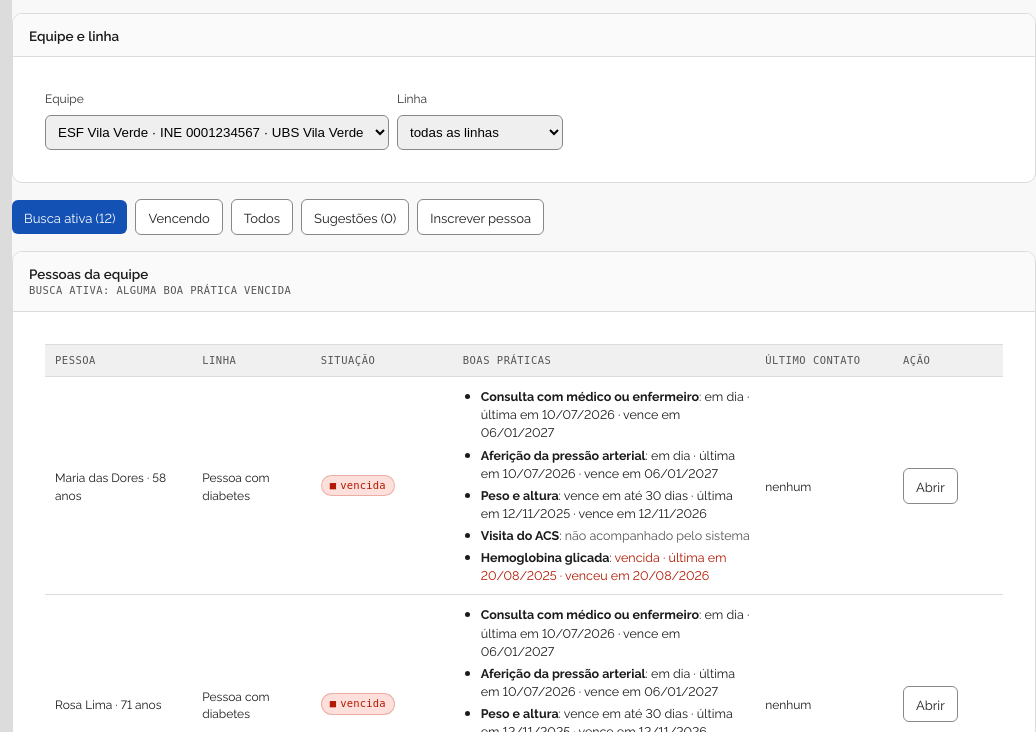
Test: EnrollmentDetail › fechar/trocar o detalhe durante o envio: a resposta tardia de A não fecha B nem relê A
Step 1. Click the button with aria-label "Abrir Maria das Dores" → (930, 486), box [903,468,958,504]
(page scrolled)
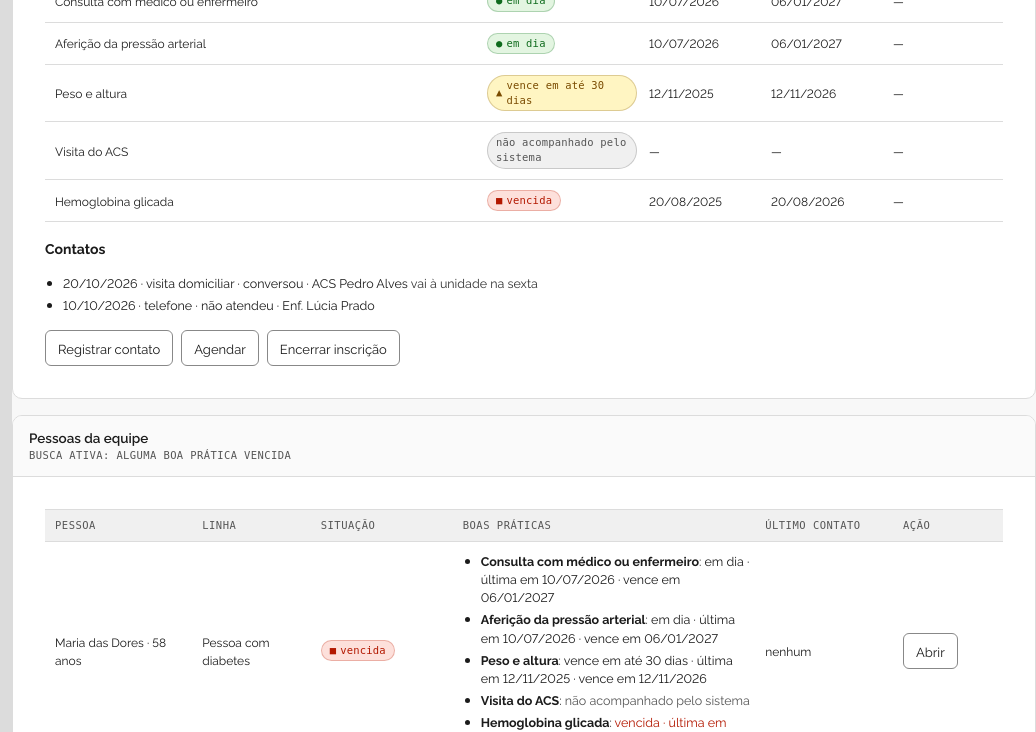
Step 2. Click the button "Registrar contato" → (109, 348), box [45,330,173,366]
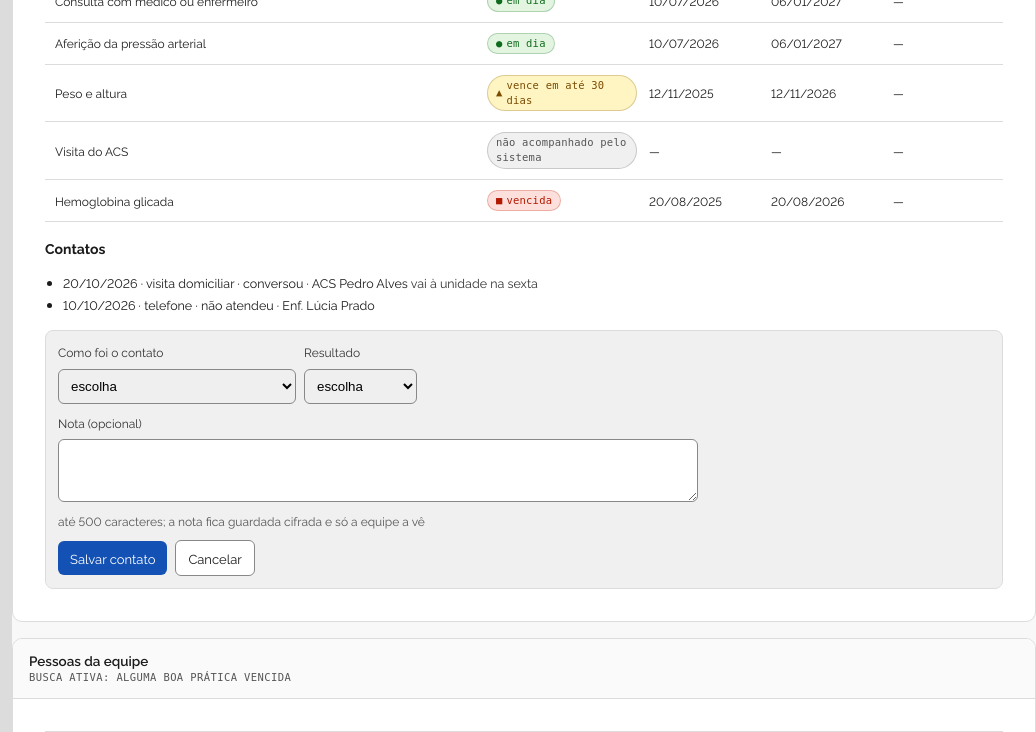
Step 3. Select "telefone" in the dropdown labelled "Como foi o contato" → (177, 386), box [58,369,296,404]
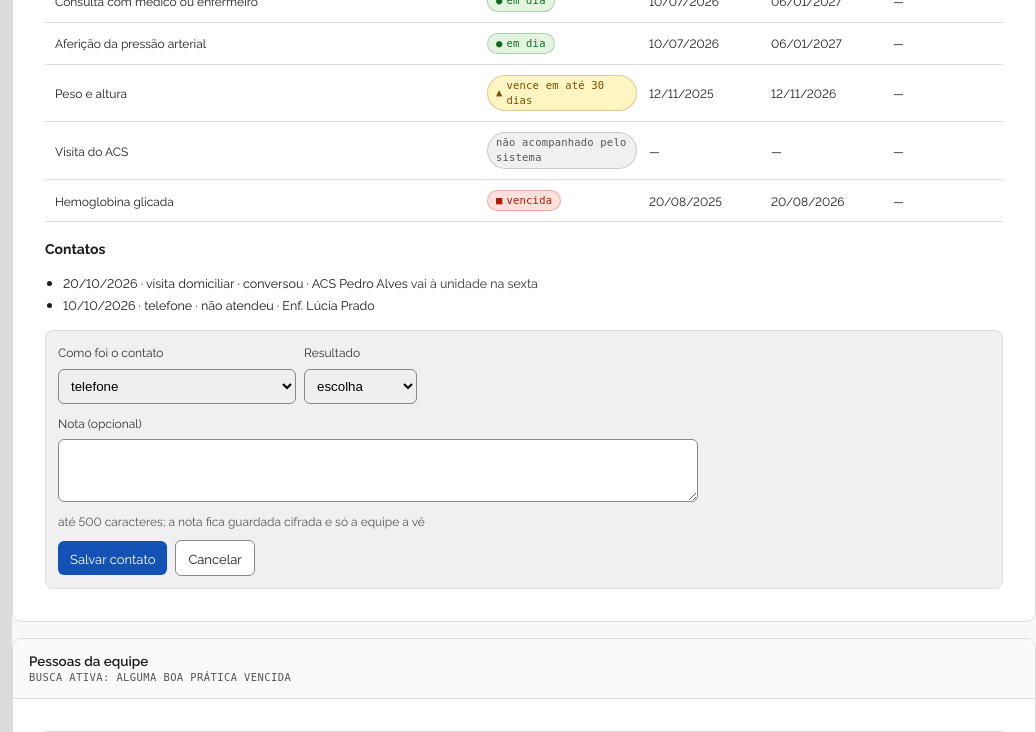
Step 4. Select "conversou" in the dropdown labelled "Resultado" → (360, 386), box [304,369,417,404]
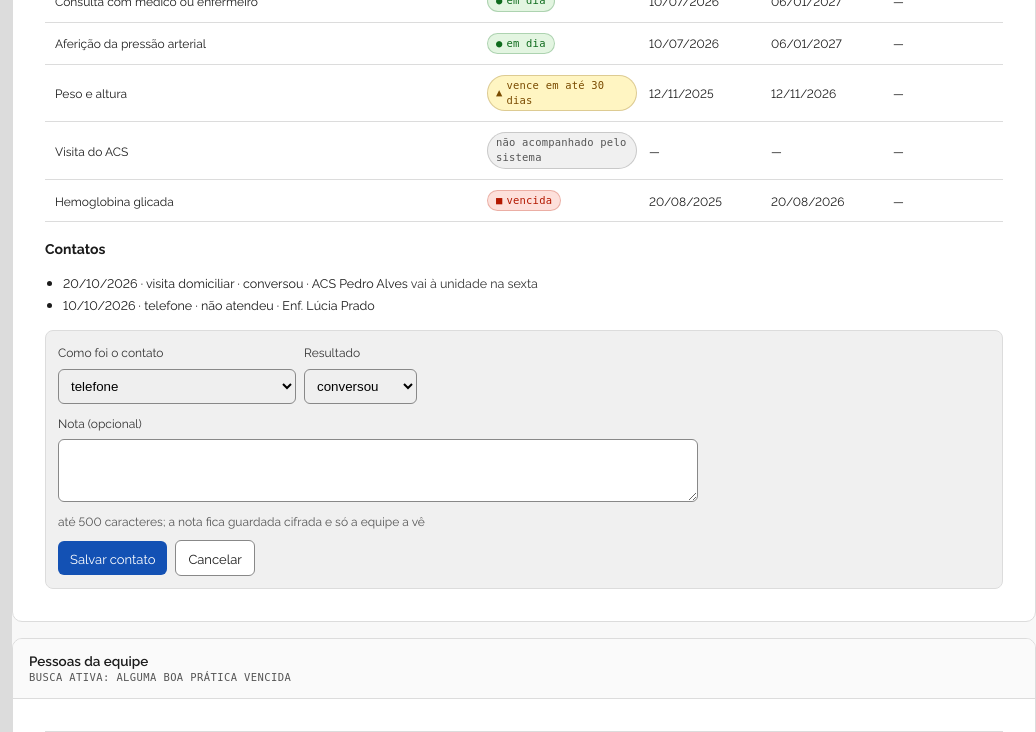
Step 5. Click the button "Salvar contato" → (113, 558), box [58,541,167,575]
(page scrolled)
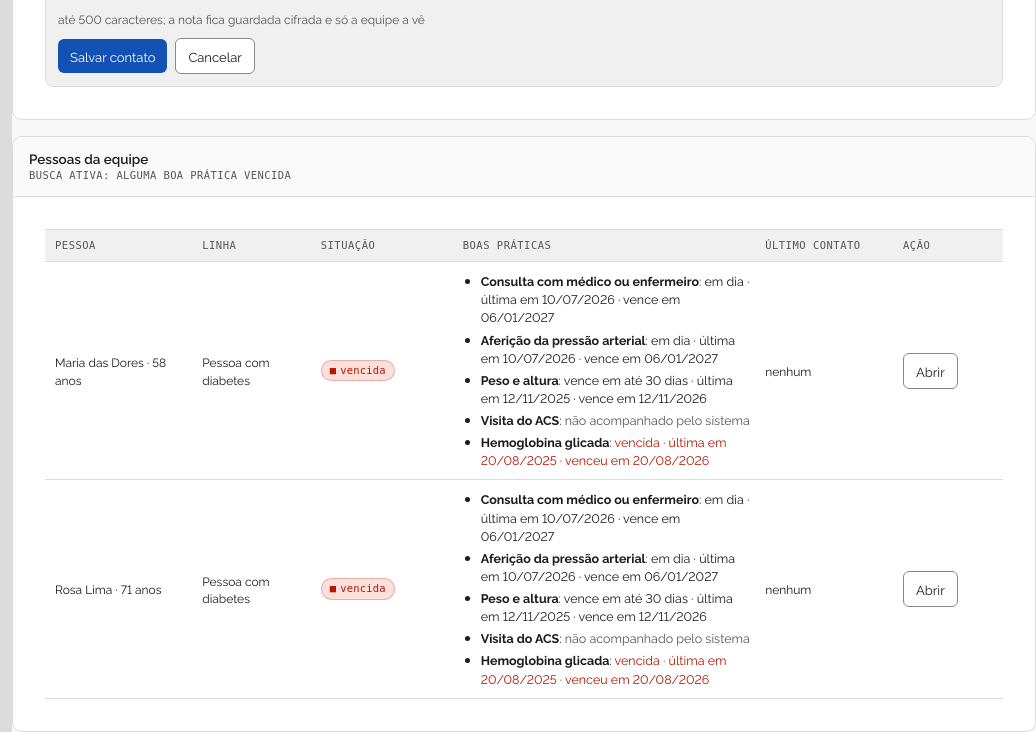
Step 6. Click the button with aria-label "Abrir Rosa Lima" → (930, 589), box [903,571,958,607]
(page scrolled)
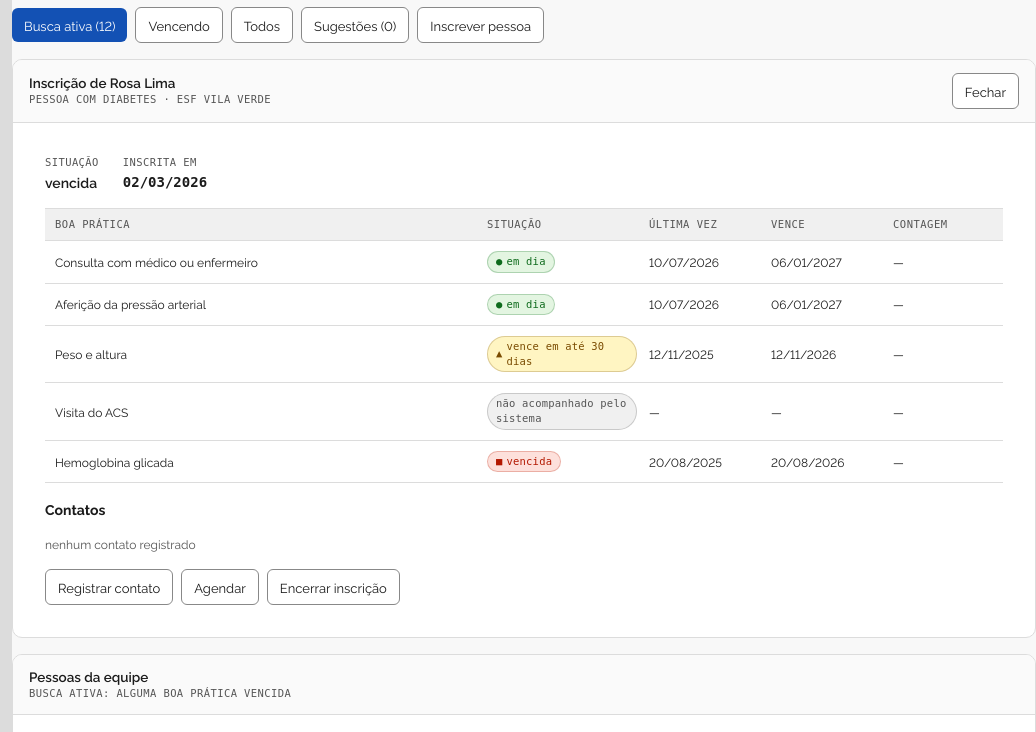
Expected: the element "Inscrição de Rosa Lima" is shown
